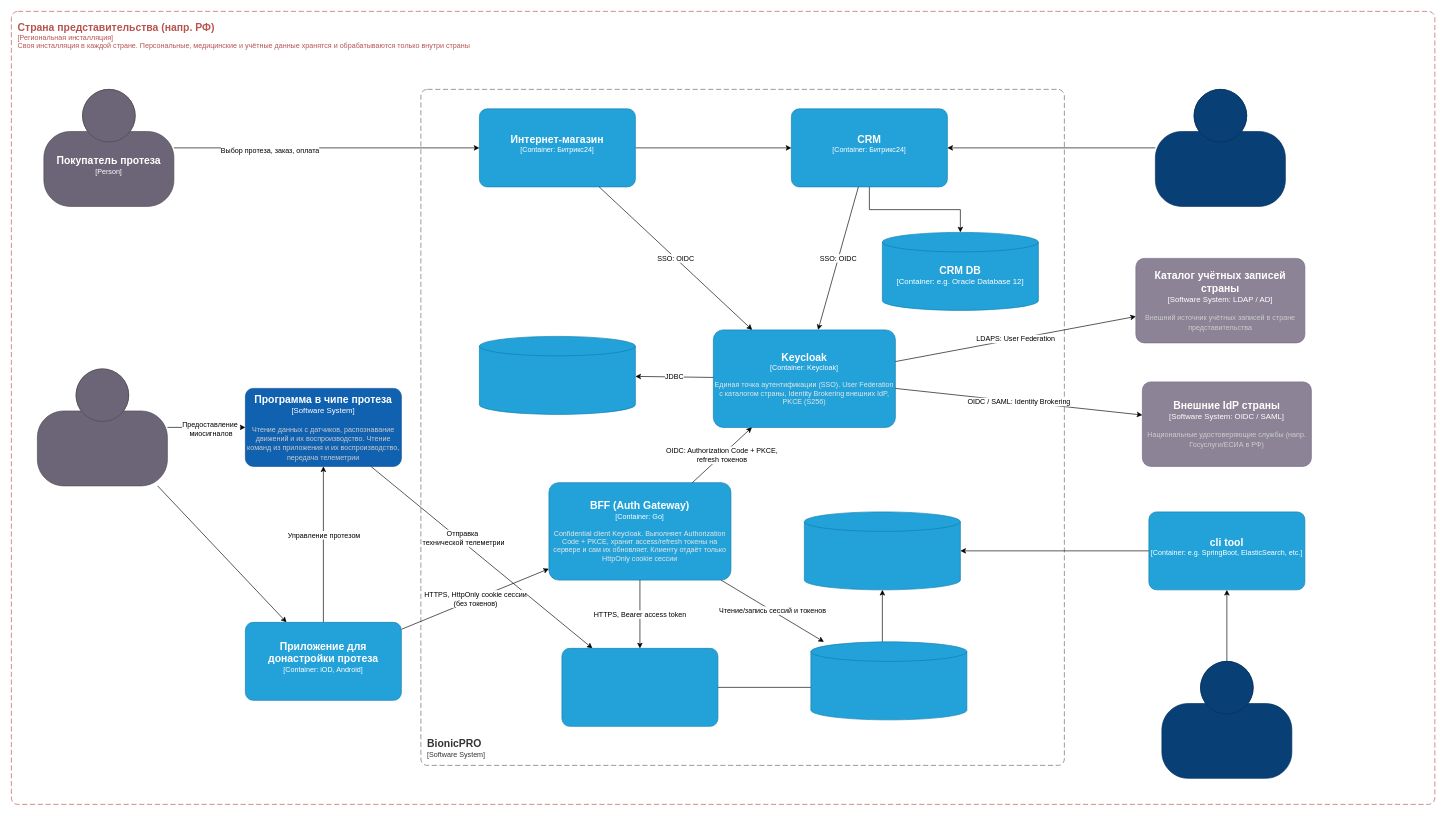
The diagram is 1446 pixels wide and 816 high, and some of its shapes have lost their labels. The box of each missing label's shape, as (x1, y1, x2, y2) in pixels:
API [Container: e.g. SpringBoot, ElasticSearch, etc.]: (561, 648, 718, 726)
Keycloak DB [Container: PostgreSQL] Конфигурация realm, сессии Keycloak: (479, 336, 635, 414)
ML-инженер [Person]: (1161, 661, 1292, 778)
База данных [Container: PostgreSQL]: (804, 511, 960, 590)
Оператор производства [Person]: (1155, 89, 1285, 206)
Пилот протеза [Person] С этого человека считываются данные: (37, 368, 167, 486)
Хранилище сессий [Container: Redis] Сессии пользователей и токены IdP: (810, 641, 967, 720)
